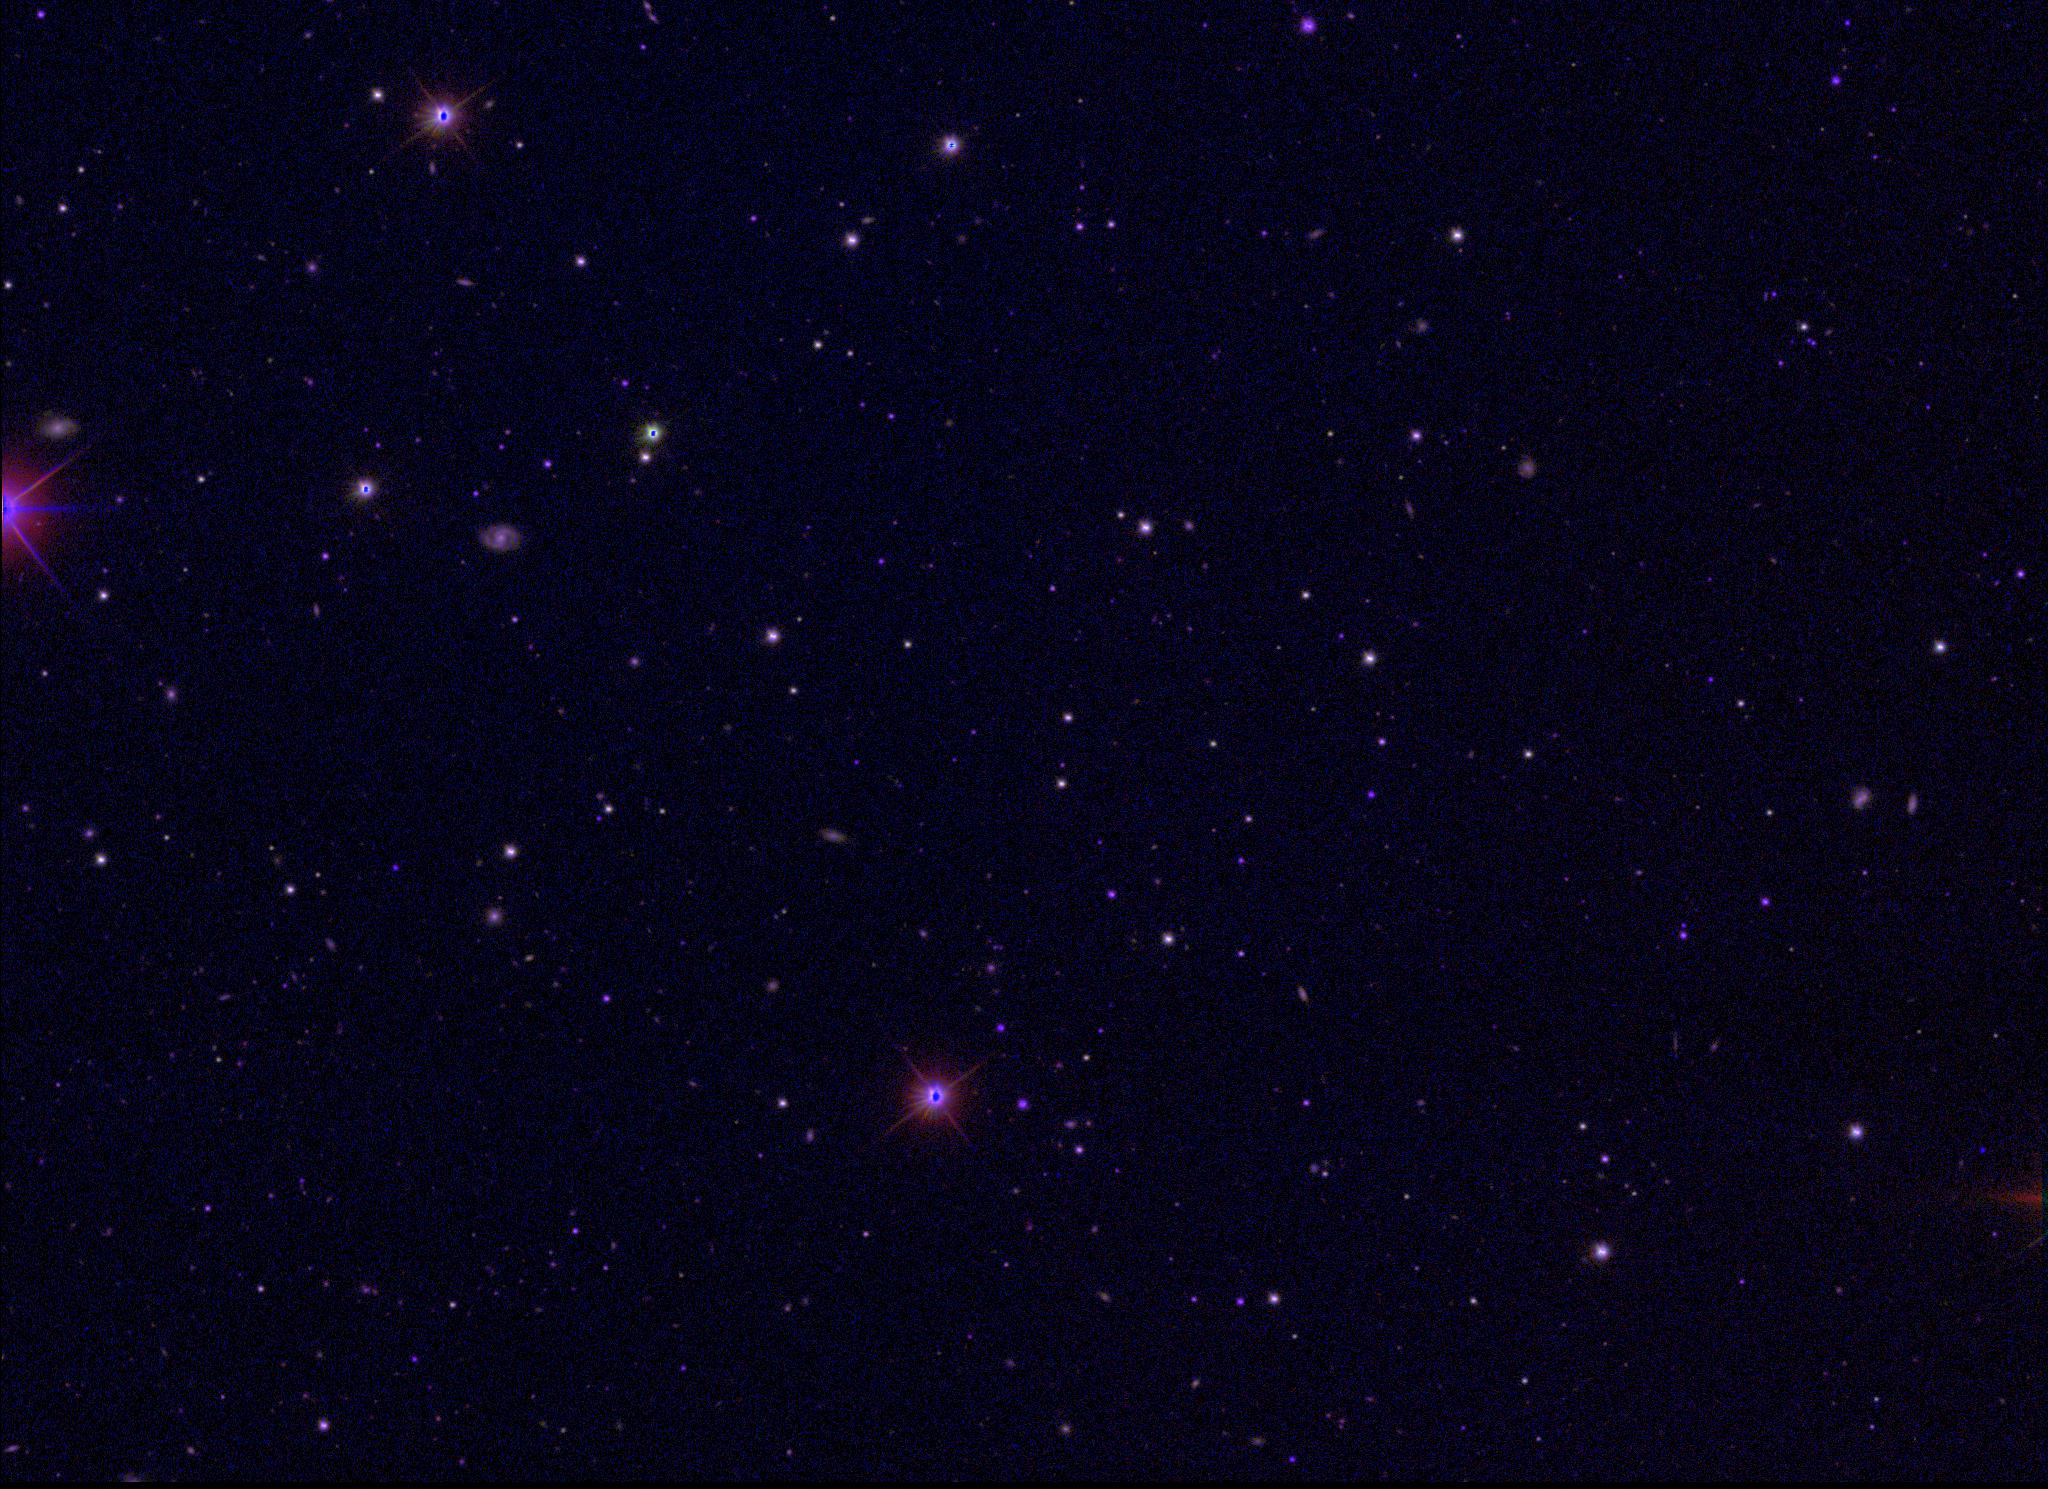L: (1976, 1144, 1991, 1157)
